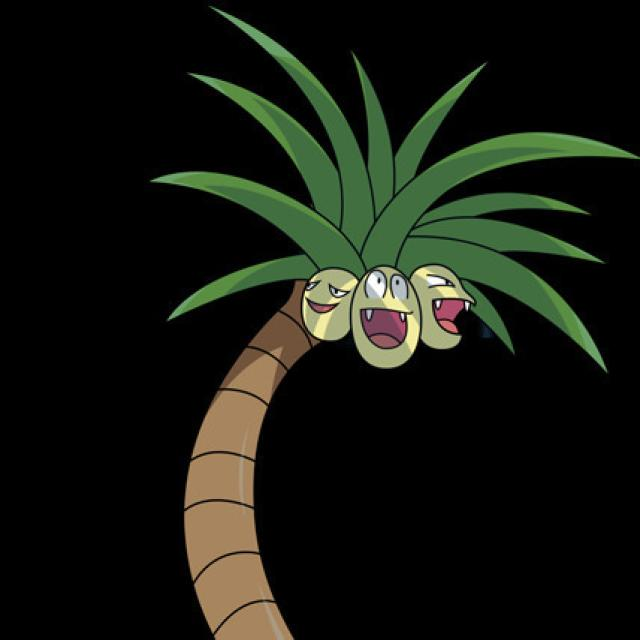Exeggutor: (166, 147, 514, 640)
